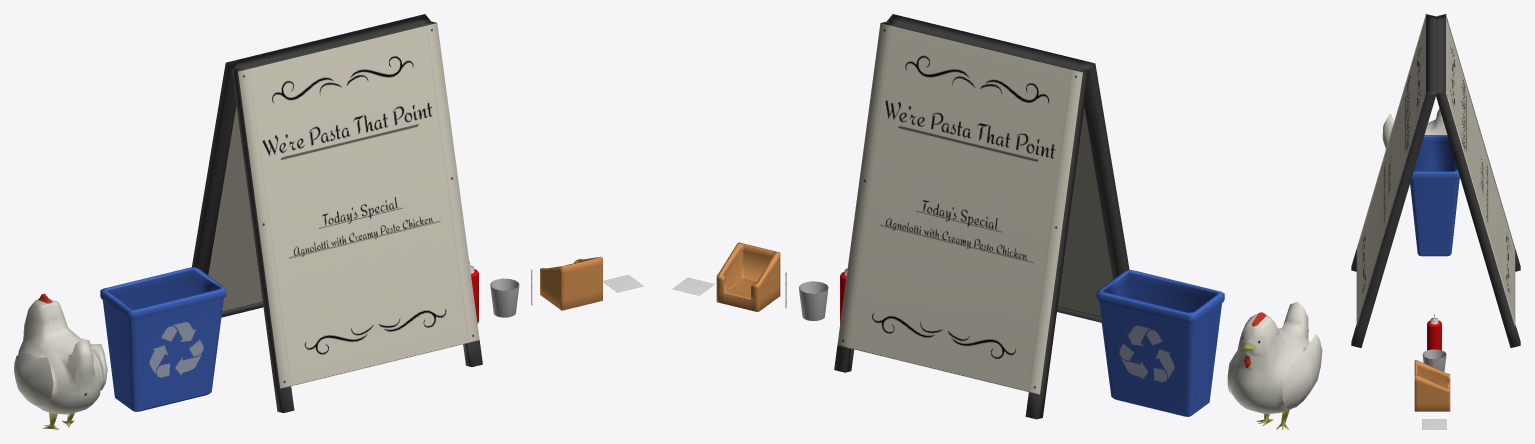
File: napkin.fbx
3 views of the same model, side by side, from view 1: azimuth 30°, elevation 25°; view 2: azimuth 150°, elevation 25°; view 3: azimuth 270°, elevation 25° (orthographic). The views are drawn at different scales.
Visible parts, largest first — view 1: sign, bin, chicken, napkin_holder, straw_holder; view 2: sign, bin, chicken, napkin_holder, straw_holder; view 3: sign, bin, napkin_holder, chicken, squirt_bottle, straw_holder, napkin.
Boxes of the visible parts, x1,y1,x2,y2 form: sign: [192, 14, 482, 412]; bin: [100, 267, 226, 411]; chicken: [14, 293, 107, 429]; napkin_holder: [540, 256, 602, 310]; straw_holder: [490, 278, 519, 317]; sign: [834, 14, 1129, 419]; bin: [1096, 270, 1224, 416]; chicken: [1227, 302, 1322, 429]; napkin_holder: [716, 242, 780, 311]; straw_holder: [799, 281, 828, 320]; sign: [1351, 14, 1520, 347]; bin: [1410, 135, 1459, 256]; napkin_holder: [1414, 360, 1450, 411]; chicken: [1382, 108, 1447, 149]; squirt_bottle: [1427, 314, 1441, 350]; straw_holder: [1422, 349, 1446, 371]; napkin: [1422, 419, 1446, 429].
Size of the model in its own units: 228 by 110 by 65.91.
